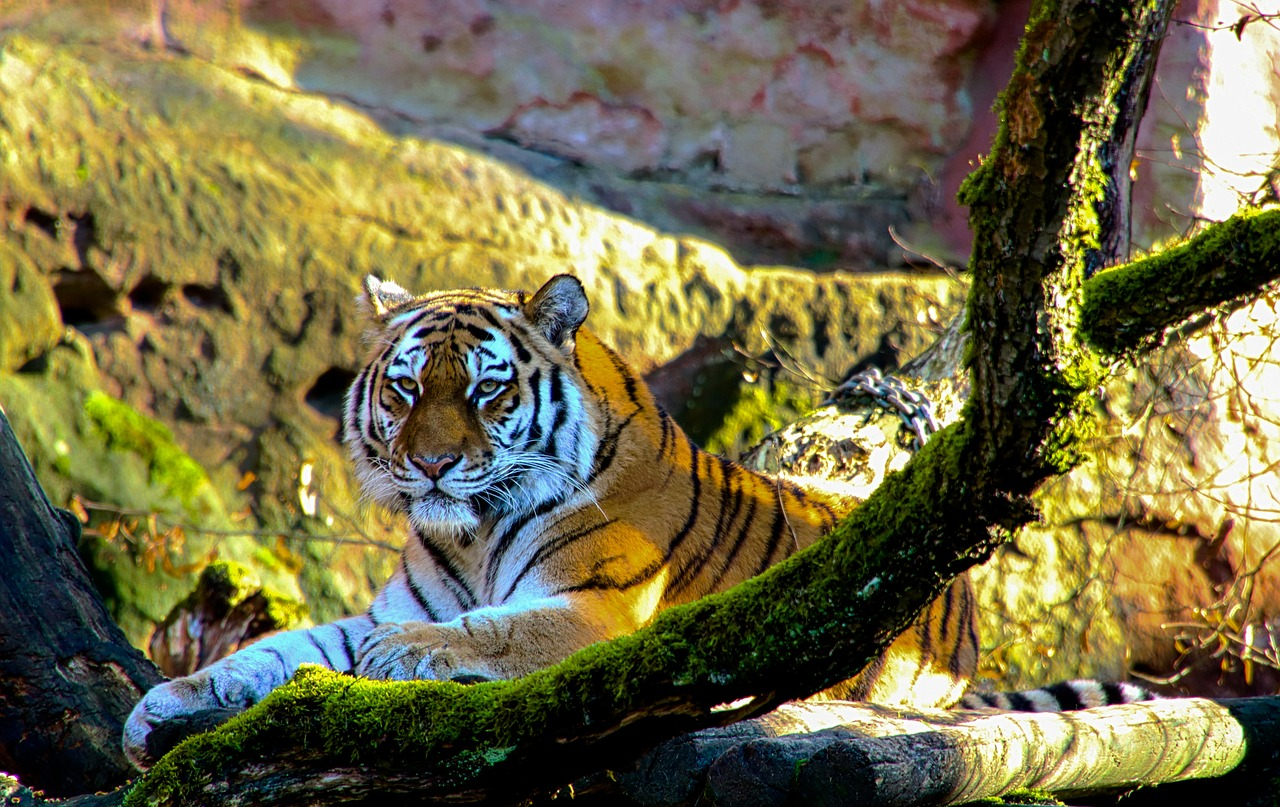tiger: (336, 246, 623, 560)
